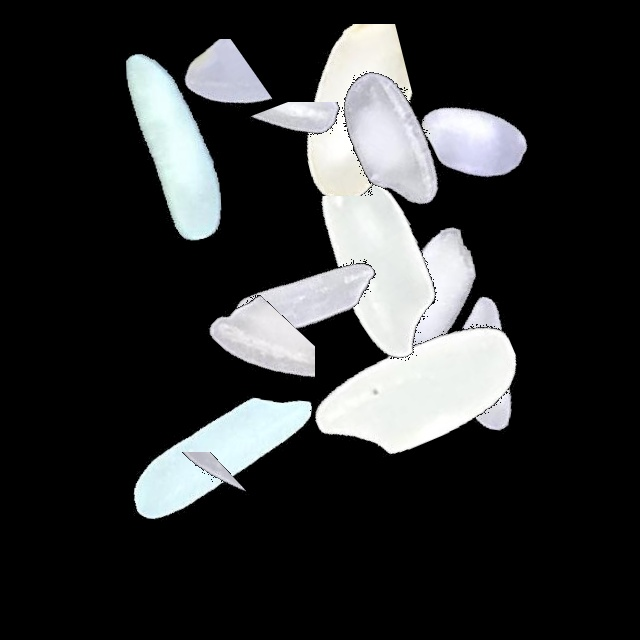Broken: (203, 24, 453, 196), (172, 252, 315, 502), (71, 39, 321, 170), (269, 92, 519, 205), (170, 102, 420, 212), (62, 452, 312, 555)
Full: (350, 15, 600, 265), (307, 168, 557, 418), (98, 333, 348, 583), (361, 236, 611, 486), (295, 270, 545, 520), (252, 138, 502, 388), (47, 20, 297, 270), (180, 170, 430, 420), (270, 11, 520, 261)
